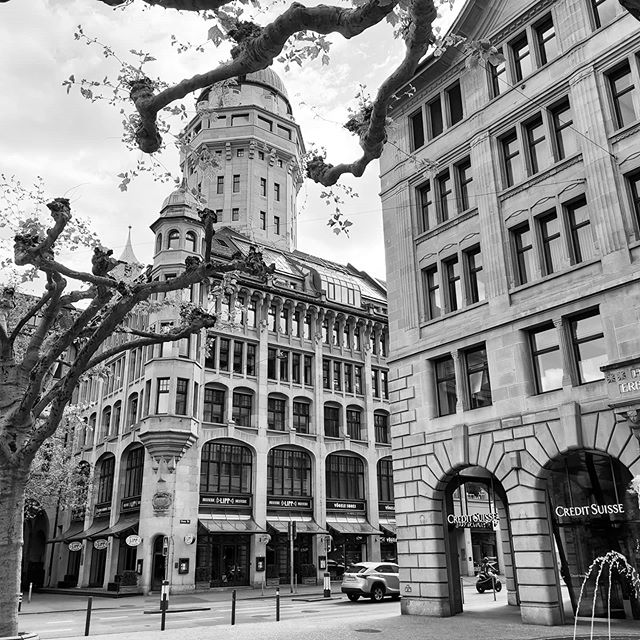building: (34, 77, 393, 586), (396, 1, 640, 620)
car: (333, 557, 412, 602)
street: (27, 594, 342, 640)
